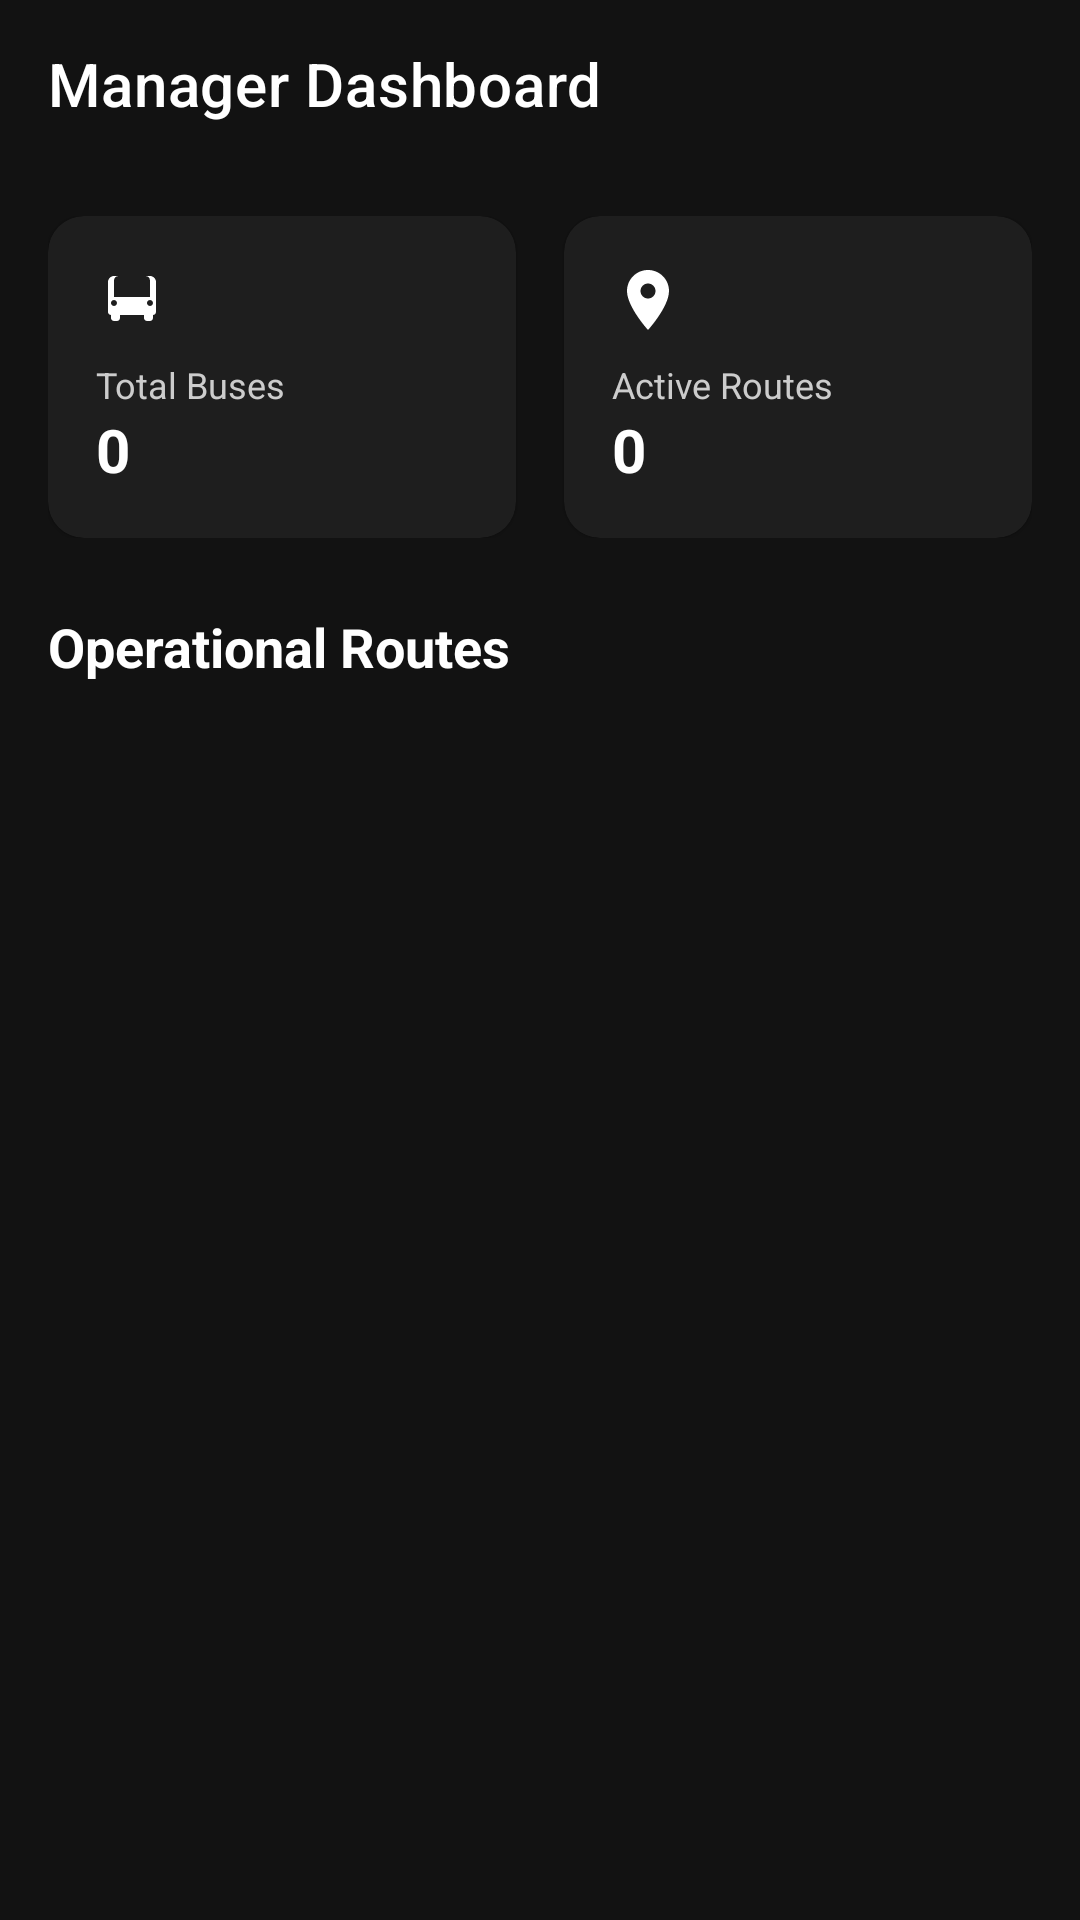

Icon click points for this 1080 × 1920 phone screenshot, format (x,y):
bus: (132,298)
location: (648,300)
